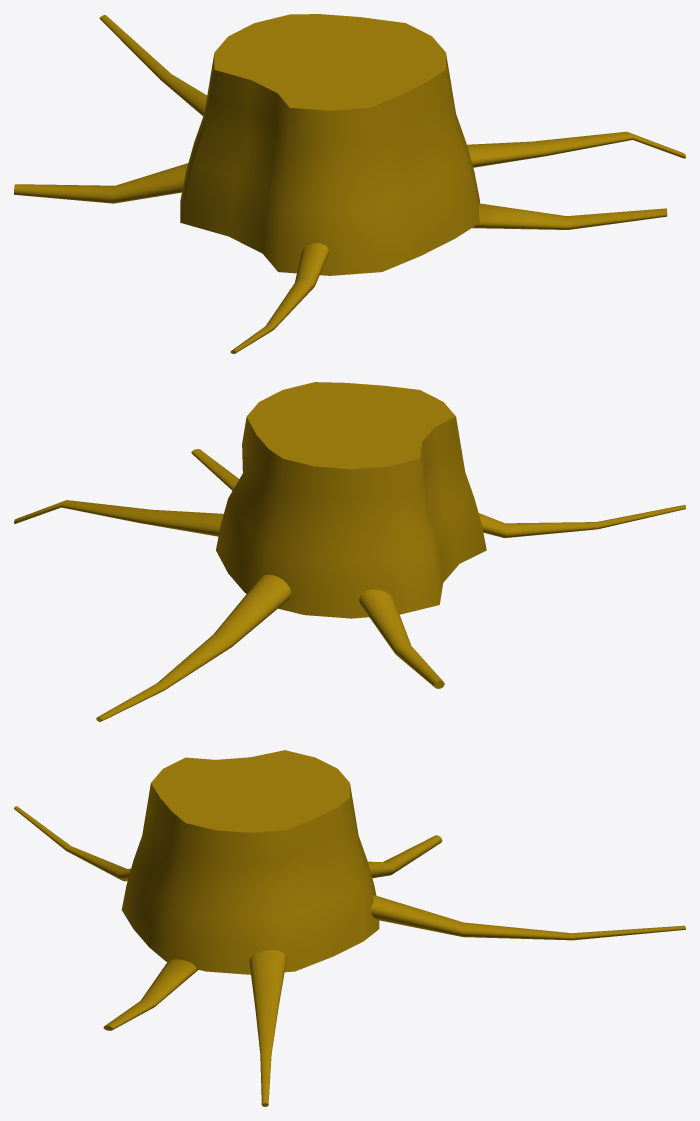
File: Stump.fbx
3 views of the same model, one above another, from view 1: azimuth 30°, elevation 25°; view 2: azimuth 150°, elevation 25°; view 3: azimuth 270°, elevation 25° (orthographic). The views are drawn at different scales.
Parts seen in each view (by area): view 1: TreeStump, StumpRoot3, StumpRoot1, StumpRoot5, StumpRoot4, StumpRoot2; view 2: TreeStump, StumpRoot2, StumpRoot1, StumpRoot3, StumpRoot4, StumpRoot5; view 3: TreeStump, StumpRoot2, StumpRoot1, StumpRoot5, StumpRoot4, StumpRoot3.
Part boxes in pixels (left/top/right/bottom): TreeStump: left=180, top=14, right=479, bottom=275; StumpRoot3: left=14, top=163, right=188, bottom=203; StumpRoot1: left=467, top=131, right=685, bottom=167; StumpRoot5: left=472, top=203, right=667, bottom=229; StumpRoot4: left=230, top=243, right=328, bottom=353; StumpRoot2: left=99, top=15, right=207, bottom=116; TreeStump: left=216, top=382, right=486, bottom=618; StumpRoot2: left=96, top=574, right=291, bottom=721; StumpRoot1: left=14, top=500, right=223, bottom=536; StumpRoot3: left=359, top=589, right=444, bottom=688; StumpRoot4: left=478, top=505, right=685, bottom=537; StumpRoot5: left=191, top=449, right=239, bottom=490; TreeStump: left=121, top=750, right=379, bottom=974; StumpRoot2: left=371, top=895, right=685, bottom=940; StumpRoot1: left=249, top=950, right=286, bottom=1106; StumpRoot5: left=103, top=959, right=198, bottom=1030; StumpRoot4: left=14, top=806, right=130, bottom=881; StumpRoot3: left=368, top=835, right=442, bottom=878.
Bounding box in the file's own units: 9.63 × 2.95 × 10.92.
